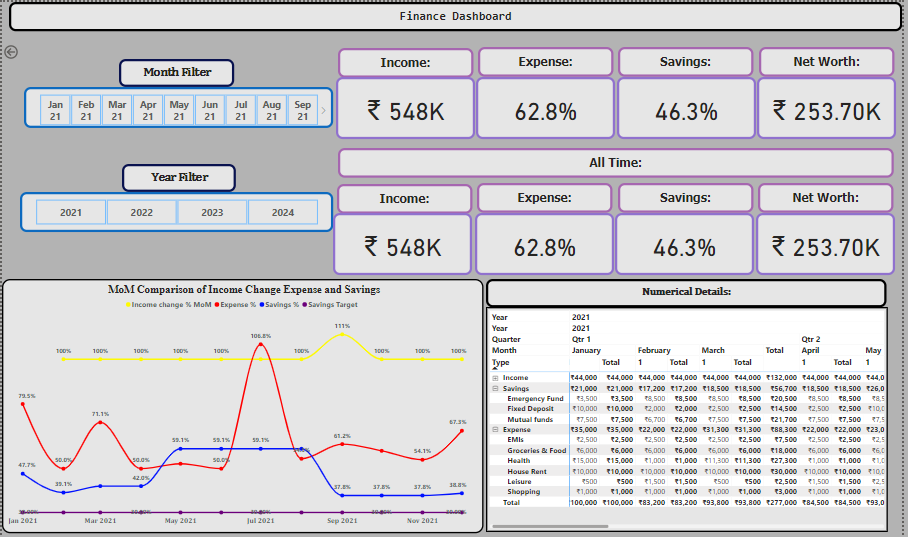

The page's visual inventory and layout, read from the dashboard file:
{"tool":"powerbi","page":{"name":"Dashboard","canvas":[2000,1900],"ordinal":0},"visuals":[{"type":"card","fields":{"Values":["Measures Table.Savings %"]},"box":[1366.3,165.7,309.1,137.7],"z":0},{"type":"textbox","box":[746.4,101.8,300.7,65.5],"z":1000},{"type":"card","fields":{"Values":["Measures Table.Total Income"]},"box":[743.1,167.4,309.1,137.7],"z":2000},{"type":"textbox","box":[1369.6,100.2,300.7,65.5],"z":3000},{"type":"card","fields":{"Values":["Measures Table.Expense %"]},"box":[1053.8,165.7,309.1,137.7],"z":4000},{"type":"textbox","box":[1057.2,100.2,300.7,65.5],"z":5000},{"type":"card","fields":{"Values":["Measures Table.Total Savings"]},"box":[1678.7,165.7,309.1,137.7],"z":6000},{"type":"textbox","box":[1682.1,100.2,300.7,65.5],"z":7000},{"type":"slicer","fields":{"Values":["FinData.Date.Variation.Date Hierarchy.Year"]},"box":[40,422.2,695.6,88.9],"z":8000},{"type":"textbox","box":[266.7,360,253.3,62.2],"z":9000},{"type":"slicer","fields":{"Values":["FinData.Date"]},"box":[48.9,188.9,686.7,91.1],"z":10000},{"type":"textbox","box":[260,126.7,255.6,62.2],"z":11000},{"type":"card","fields":{"Values":["Measures Table.Savings %"]},"box":[1362.9,469.7,309.1,137.7],"z":12000},{"type":"textbox","box":[744.7,403.5,300.7,65.5],"z":13000},{"type":"card","fields":{"Values":["Measures Table.Total Income"]},"box":[736.4,468,309.1,137.7],"z":14000},{"type":"textbox","box":[1367.9,401.8,300.7,65.5],"z":15000},{"type":"card","fields":{"Values":["Measures Table.Expense %"]},"box":[1050.5,469.7,309.1,137.7],"z":16000},{"type":"textbox","box":[1055.4,401.8,300.7,65.5],"z":17000},{"type":"card","fields":{"Values":["Measures Table.Total Savings"]},"box":[1675.4,469.7,309.1,137.7],"z":18000},{"type":"textbox","box":[1680.3,401.8,300.7,65.5],"z":19000},{"type":"textbox","box":[746.4,325.3,1234.6,65.5],"z":20000},{"type":"barChart","title":"Total Expense % by Component","fields":{"Category":["FinData.Component"],"Y":["Measures Table.Total Expense"]},"box":[0,1232.5,1000,590],"z":21000},{"type":"actionButton","box":[0.4,91.8,100,40],"z":22000},{"type":"textbox","box":[15,0,1985,65],"z":23000},{"type":"barChart","title":"Total Savings % by Component","fields":{"Category":["FinData.Component"],"Y":["Measures Table.Total Savings"]},"box":[1016,1232.5,984,590],"z":24000},{"type":"lineChart","title":"MoM Comparison of  Income Change Expense and Savings","fields":{"Category":["FinData.Date"],"Y":["Measures Table.Income change % MoM","Measures Table.Expense %","Measures Table.Savings %","Measures Table.Savings Target"]},"box":[0,615,1070,565],"z":25000},{"type":"pivotTable","fields":{"Rows":["Table for Sorting.Type","FinData.Component"],"Columns":["FinData.Year","FinData.Date.Variation.Date Hierarchy.Year","FinData.Date.Variation.Date Hierarchy.Quarter","FinData.Date.Variation.Date Hierarchy.Month","FinData.Date.Variation.Date Hierarchy.Day"],"Values":["Sum(FinData.Amount)"]},"box":[1075,677.5,892.5,500],"z":26000},{"type":"textbox","box":[1075,615,890,62.5],"z":27000}]}

Visuals, with their boxes on the page's 2000x1900 design canvas (x1, y1, x2, y2). These are canvas units, not pixel positions in the 908x537 screenshot, which may show the page scaled, cropped or inside an application window:
card - Measures Table.Savings %: 1366 166 1675 303
textbox: 746 102 1047 167
card - Measures Table.Total Income: 743 167 1052 305
textbox: 1370 100 1670 166
card - Measures Table.Expense %: 1054 166 1363 303
textbox: 1057 100 1358 166
card - Measures Table.Total Savings: 1679 166 1988 303
textbox: 1682 100 1983 166
slicer - FinData.Date.Variation.Date Hierarchy.Year: 40 422 736 511
textbox: 267 360 520 422
slicer - FinData.Date: 49 189 736 280
textbox: 260 127 516 189
card - Measures Table.Savings %: 1363 470 1672 607
textbox: 745 404 1045 469
card - Measures Table.Total Income: 736 468 1046 606
textbox: 1368 402 1669 467
card - Measures Table.Expense %: 1050 470 1360 607
textbox: 1055 402 1356 467
card - Measures Table.Total Savings: 1675 470 1984 607
textbox: 1680 402 1981 467
textbox: 746 325 1981 391
"Total Expense % by Component" barChart: 0 1232 1000 1822
actionButton: 0 92 100 132
textbox: 15 0 2000 65
"Total Savings % by Component" barChart: 1016 1232 2000 1822
"MoM Comparison of  Income Change Expense and Savings" lineChart: 0 615 1070 1180
pivotTable - Table for Sorting.Type x FinData.Component: 1075 678 1968 1178
textbox: 1075 615 1965 678
